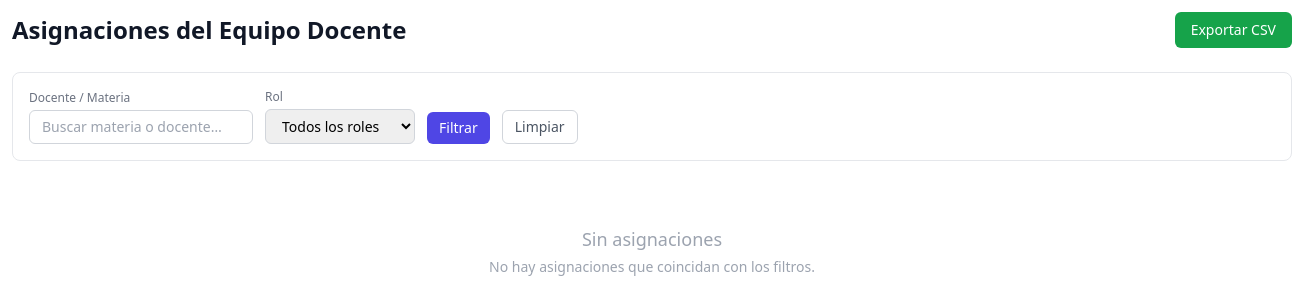
AsignacionesAdminPage › clears filters when clear button is clicked
Type "Matemática" into the field with placeholder "Buscar materia o docente…" at (141, 127), box x1=29 y1=110 x2=253 y2=144
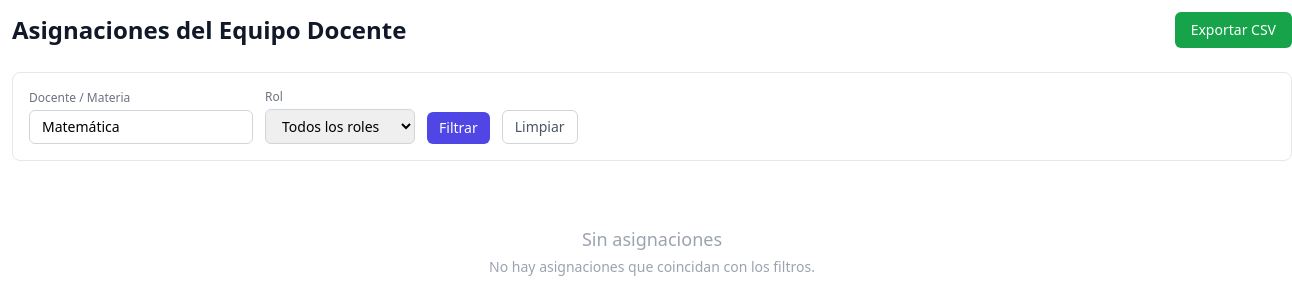
Click the button "Limpiar" at (540, 127), box x1=502 y1=110 x2=578 y2=144
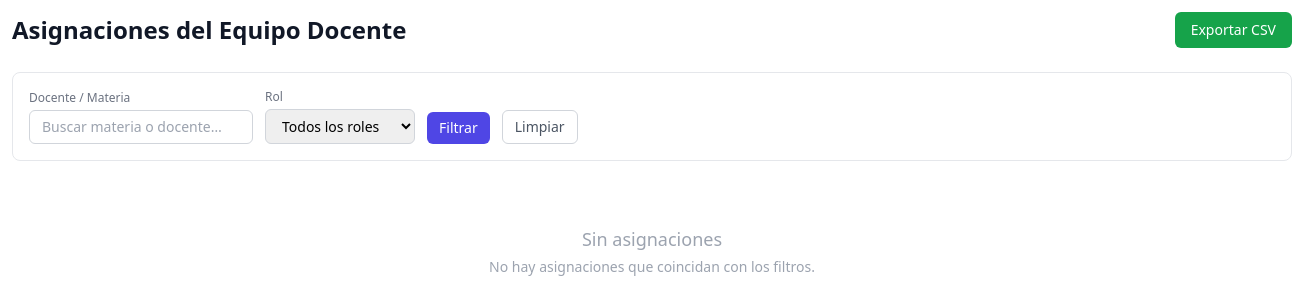
Result: the field with placeholder "Buscar materia o docente…" is empty at x1=29 y1=110 x2=253 y2=144
